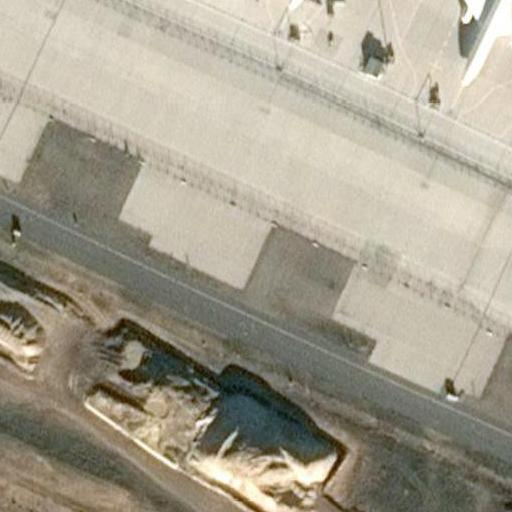Aircraft: (432, 0, 512, 91), (431, 0, 512, 89), (264, 0, 416, 15), (262, 0, 414, 10)
